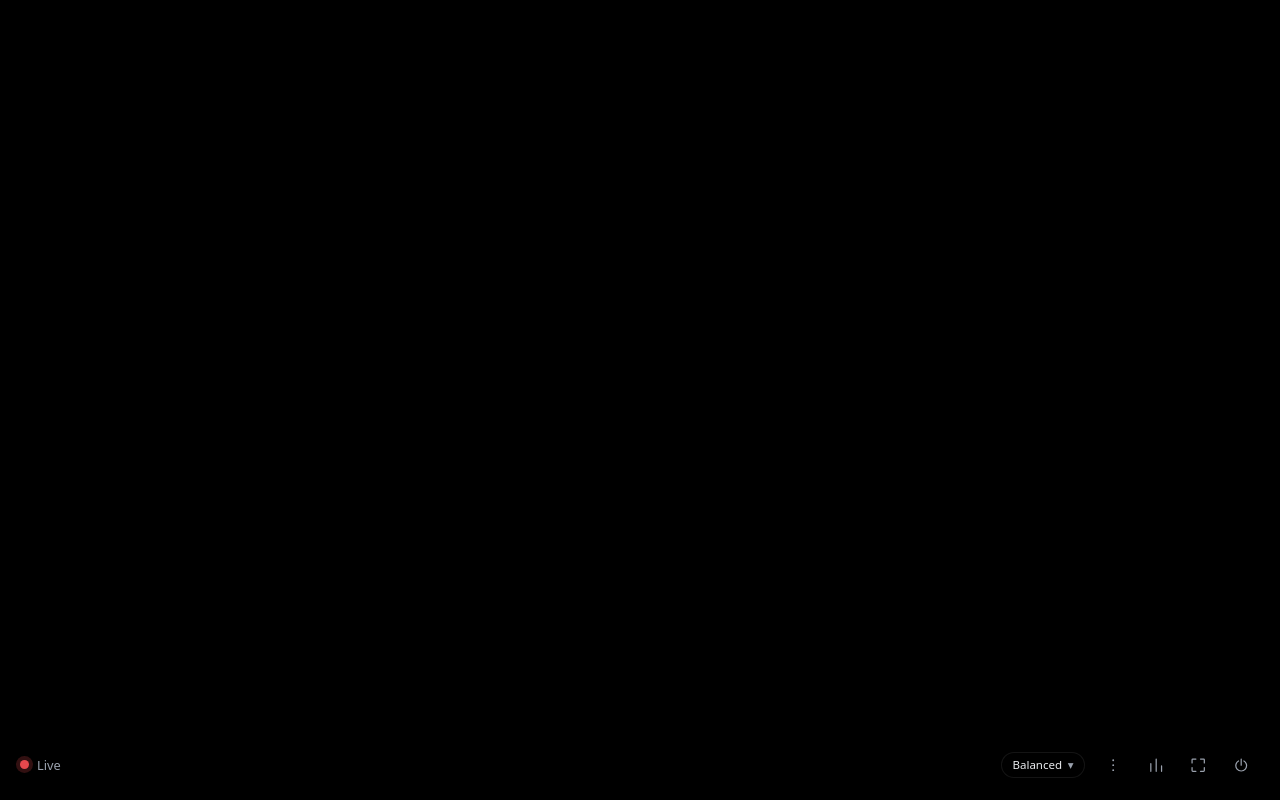
it: ViewerScreen menu button (touch reachability) › opens the same menu from a visible control-bar button
Click the button named "More options": (1114, 765) [1094,746,1133,784]
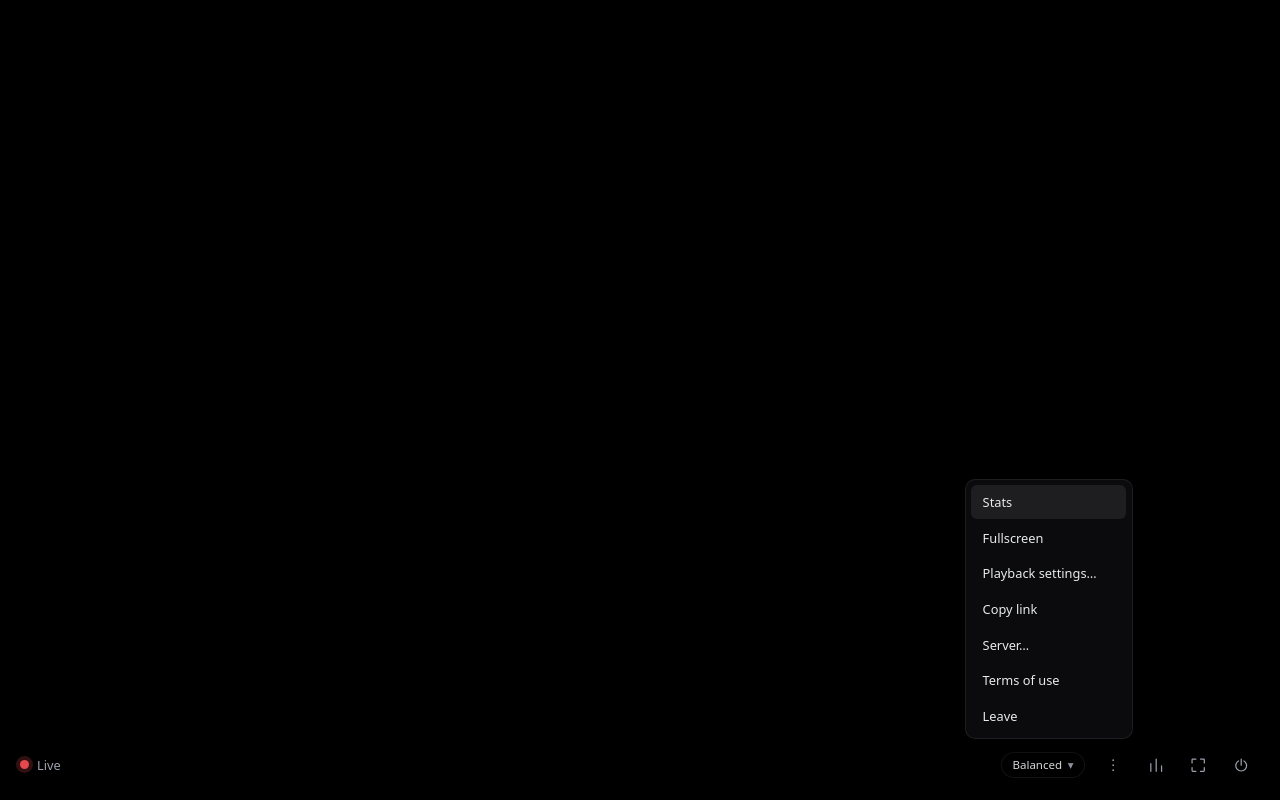
Result: the menu is shown at [965,479,1133,739]
Result: the text "Copy link" is shown at [983,600,1037,618]
Result: the text "Playback settings…" is shown at [983,564,1097,582]
